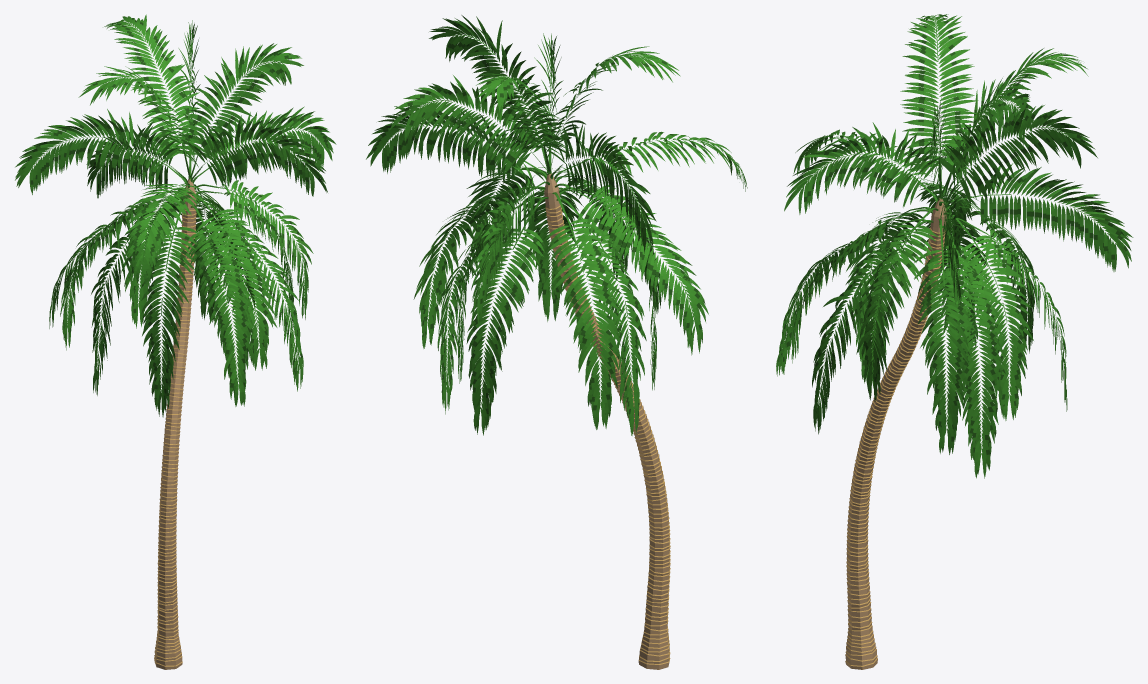
The model's file is NewPalm-4.glb.
3 views of the same model, side by side, from view 1: azimuth 30°, elevation 25°; view 2: azimuth 150°, elevation 25°; view 3: azimuth 270°, elevation 25° (orthographic). The views are drawn at different scales.
Visible parts, largest first — view 1: cocos; view 2: cocos; view 3: cocos.
Part boxes in pixels (x1,y1,x2,y2): cocos: [15, 14, 336, 669]; cocos: [366, 15, 747, 669]; cocos: [776, 14, 1133, 669].
Bounding box in the file's own units: 103 × 193 × 98.24.
